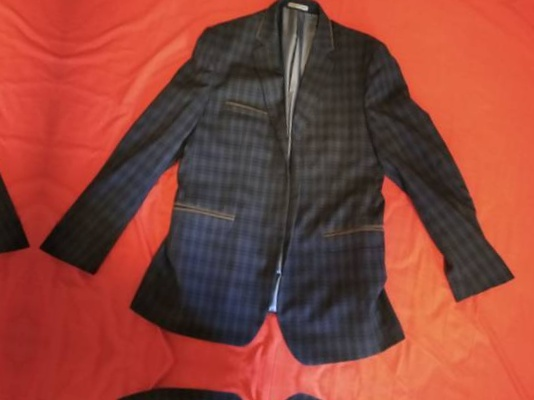Blazer: (31, 0, 534, 381), (0, 0, 68, 316), (0, 364, 477, 400), (0, 299, 11, 400)
